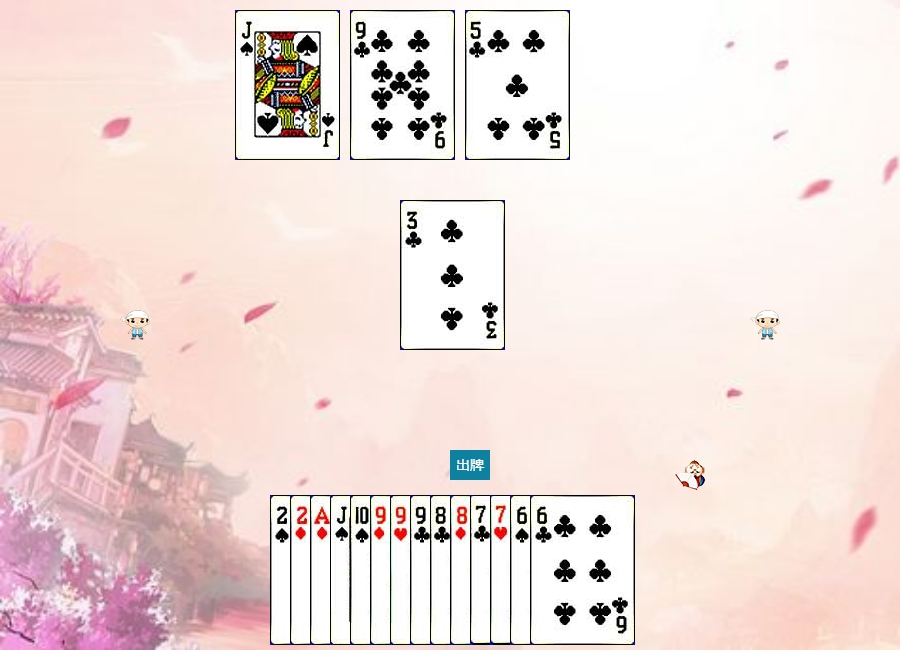10~4: (350, 495, 455, 645)
11~4: (235, 10, 340, 160), (330, 495, 435, 645)
14~1: (310, 495, 415, 645)
15~1: (290, 495, 395, 645)
15~4: (270, 495, 375, 645)
3~2: (400, 200, 505, 350)
5~2: (465, 10, 570, 160)
6~2: (530, 495, 635, 645)
6~4: (510, 495, 615, 645)
7~2: (470, 495, 575, 645)
7~3: (490, 495, 595, 645)
8~1: (450, 495, 555, 645)
8~2: (430, 495, 535, 645)
9~1: (370, 495, 475, 645)
9~2: (350, 10, 455, 160), (410, 495, 515, 645)
9~3: (390, 495, 495, 645)
